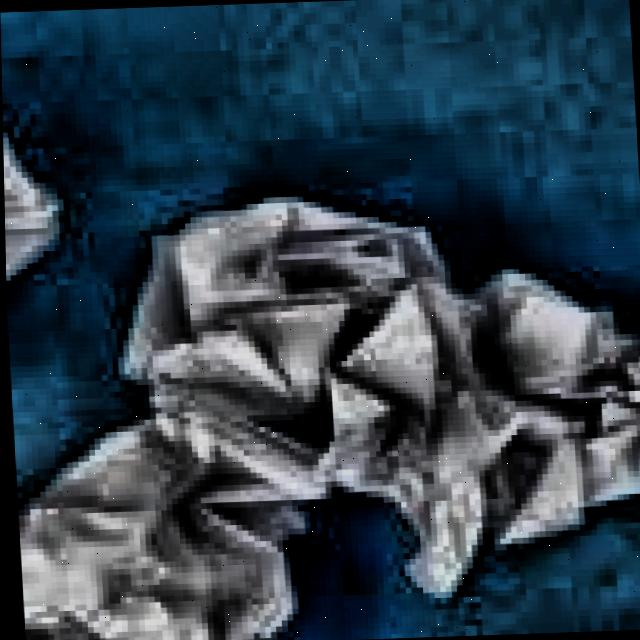paper: (14, 186, 640, 640)
